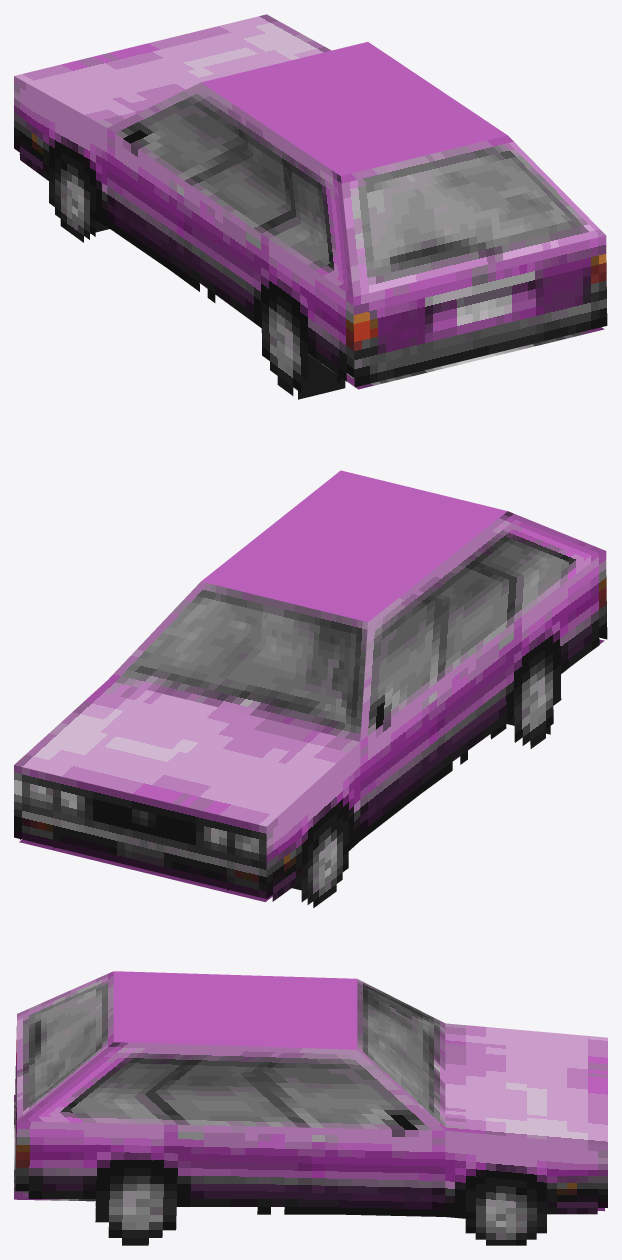
Rendered from car-wagon-plt2.glb.
The picture shows the model from 3 angles, top to bottom: view 1: azimuth 30°, elevation 25°; view 2: azimuth 150°, elevation 25°; view 3: azimuth 270°, elevation 25°; orthographic projection. The views are drawn at different scales.
Parts seen in each view (by area): view 1: car-wagon-plt2; view 2: car-wagon-plt2; view 3: car-wagon-plt2.
Boxes of the visible parts, bbox=[...] form: car-wagon-plt2: bbox=[14, 14, 607, 399]; car-wagon-plt2: bbox=[14, 470, 607, 907]; car-wagon-plt2: bbox=[14, 971, 607, 1245].
Size of the model in its own units: 1.89 by 1.52 by 4.42.
Materials: 13 (13 with a texture image).
